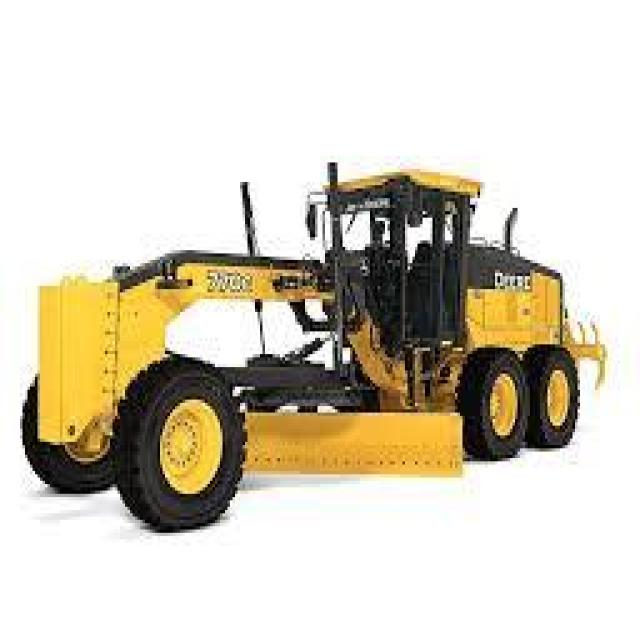Grader: (5, 133, 615, 533)
